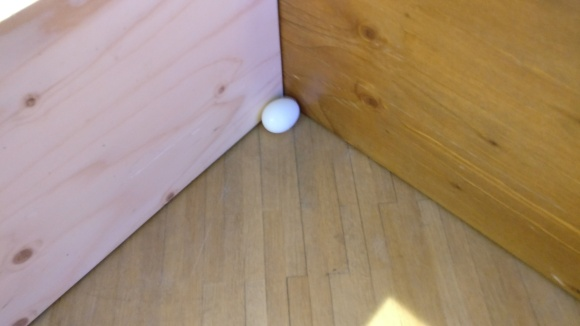egg: (261, 97, 298, 134)
